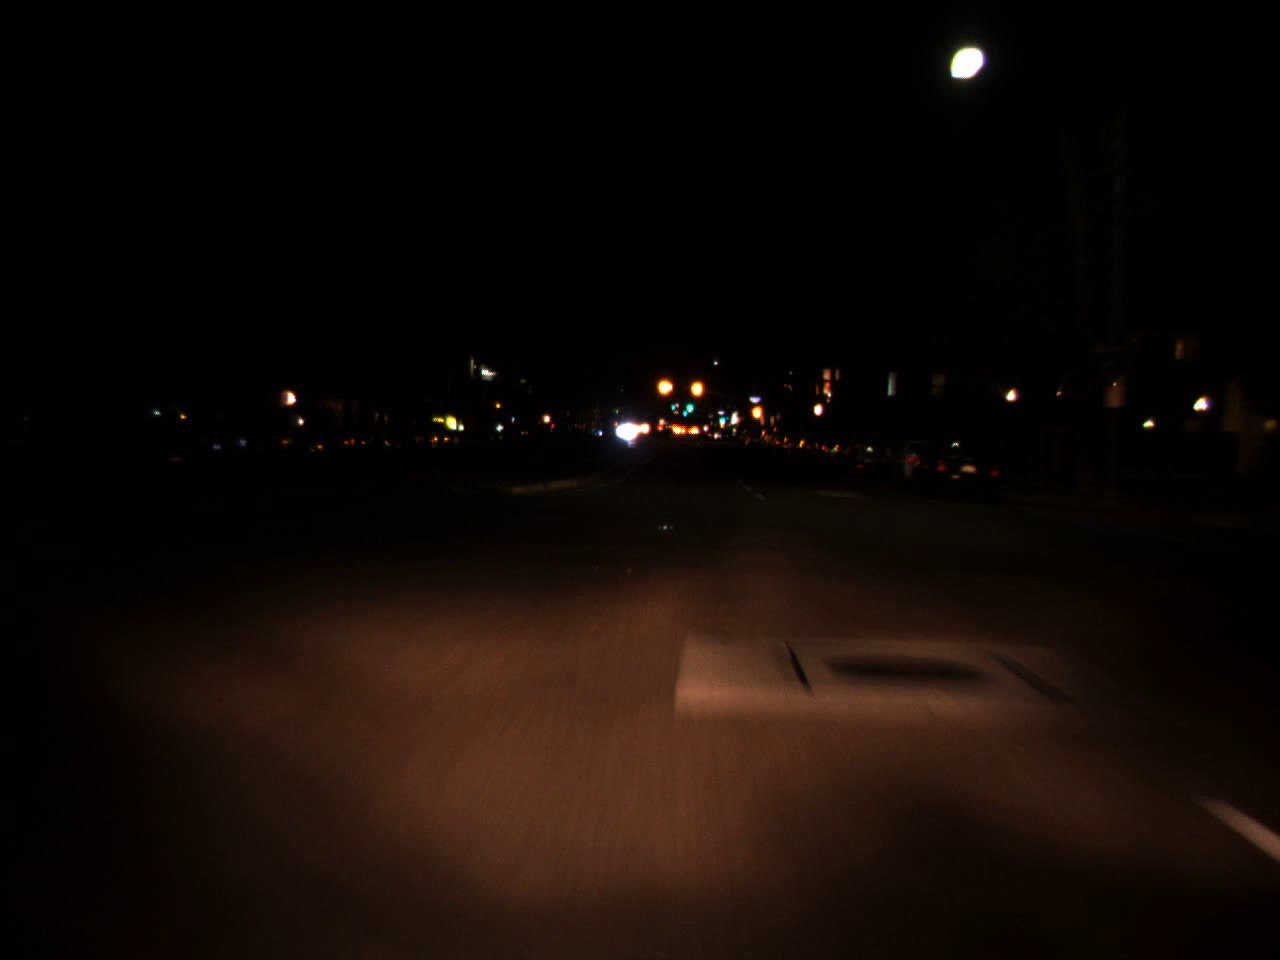go: (684, 392, 693, 416), (717, 412, 726, 424), (681, 403, 688, 418)
warning: (654, 369, 673, 401), (689, 370, 705, 405), (749, 394, 764, 429)
